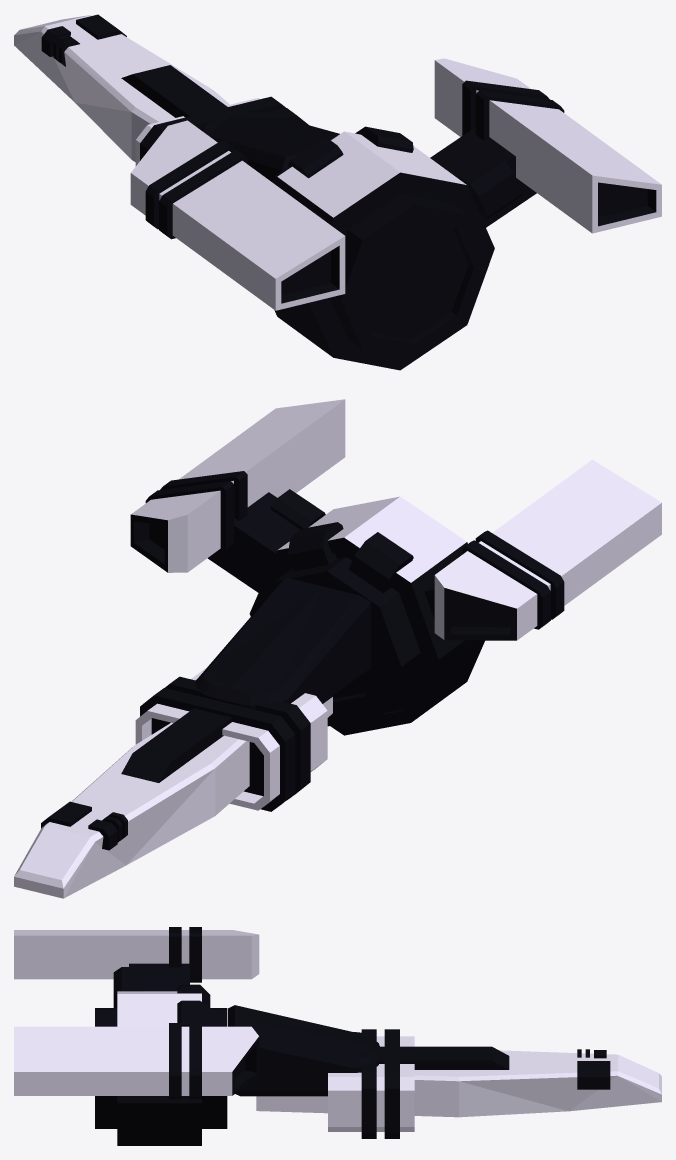
File: Ship-small.obj
The picture shows the model from 3 angles, top to bottom: view 1: azimuth 30°, elevation 25°; view 2: azimuth 150°, elevation 25°; view 3: azimuth 270°, elevation 25°; orthographic projection. The views are drawn at different scales.
Visible parts, largest first — view 1: Ship_Cube.009; view 2: Ship_Cube.009; view 3: Ship_Cube.009.
Part boxes in pixels (x1,y1,x2,y2): Ship_Cube.009: (14, 14, 661, 370); Ship_Cube.009: (14, 399, 661, 898); Ship_Cube.009: (14, 927, 661, 1145).
Size of the model in its own units: 2.1 by 1.11 by 3.94.
